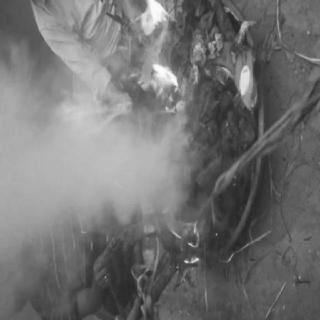Fire: (44, 86, 134, 132), (150, 56, 181, 92), (180, 220, 200, 266)
Smoke: (3, 140, 169, 217), (4, 81, 36, 128)
